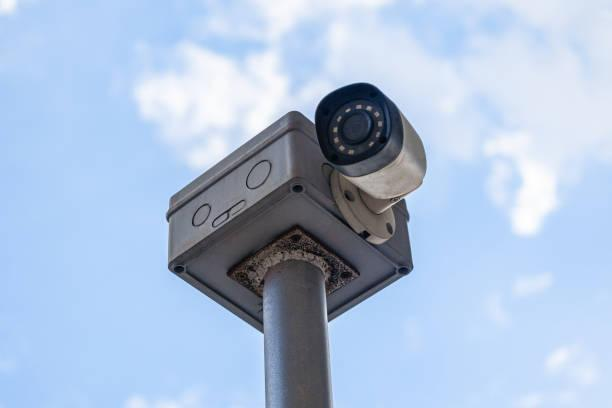camera: (293, 75, 442, 221)
